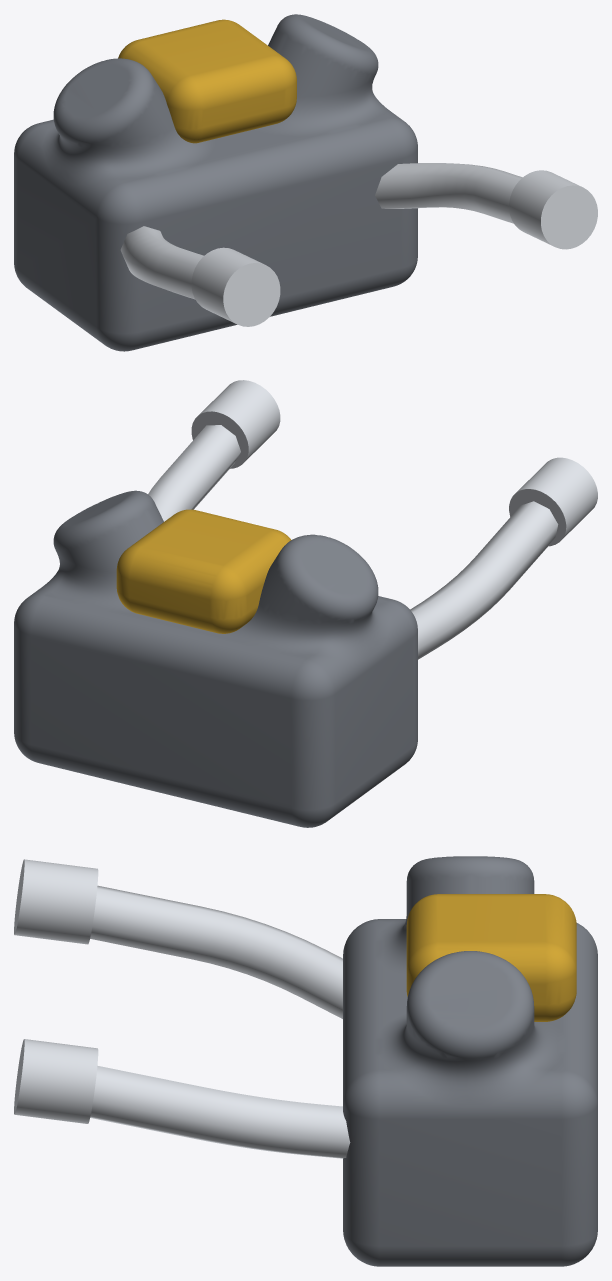
The model's file is twin.glb.
The picture shows the model from 3 angles, top to bottom: view 1: azimuth 30°, elevation 25°; view 2: azimuth 150°, elevation 25°; view 3: azimuth 270°, elevation 25°; orthographic projection. The views are drawn at different scales.
Visible parts, largest first — view 1: Engine, Scoop, Exhaust1, ExhaustTip0, ExhaustTip1, Exhaust0; view 2: Engine, Scoop, Exhaust0, Exhaust1, ExhaustTip1, ExhaustTip0; view 3: Engine, Exhaust0, Scoop, Exhaust1, ExhaustTip0, ExhaustTip1.
Boxes of the visible parts, x1,y1,x2,y2 form: Engine: (14,14,417,351); Scoop: (118,19,296,143); Exhaust1: (375,163,522,223); ExhaustTip0: (191,247,280,326); ExhaustTip1: (509,170,597,249); Exhaust0: (120,226,203,299); Engine: (14,490,417,827); Scoop: (116,509,291,633); Exhaust0: (410,501,558,659); Exhaust1: (148,425,240,521); ExhaustTip1: (191,380,280,468); ExhaustTip0: (509,457,597,546); Engine: (343,856,597,1266); Exhaust0: (90,885,342,1018); Scoop: (406,894,576,1021); Exhaust1: (90,1065,350,1158); ExhaustTip0: (14,859,98,944); ExhaustTip1: (14,1039,98,1123).
Bounding box in the file's own units: 0.472 × 0.2945 × 0.5497.
